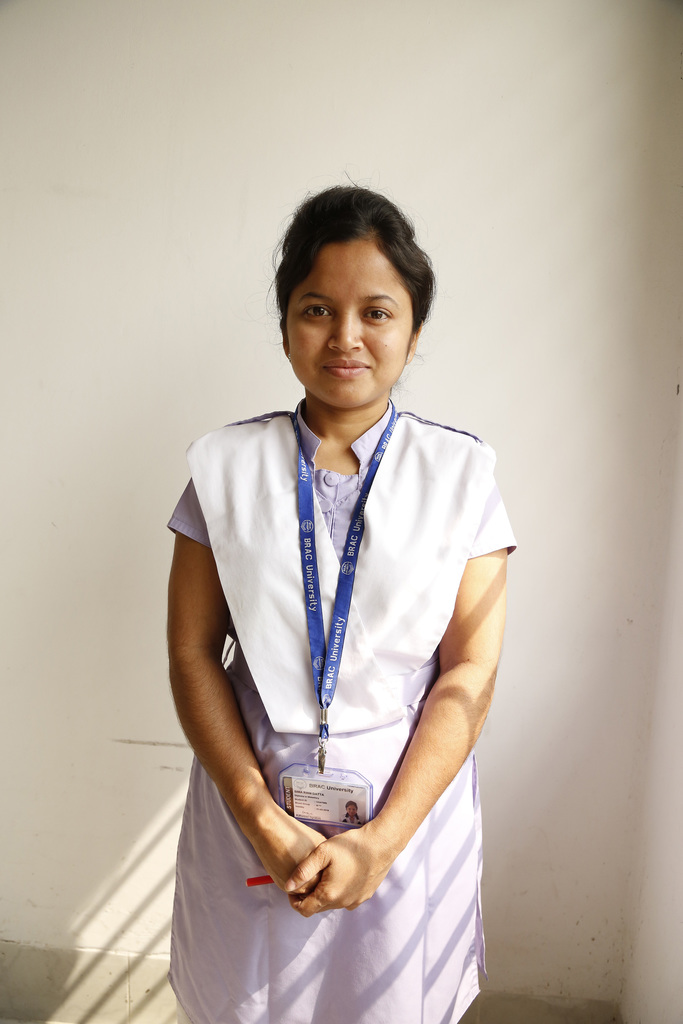Person: (162, 166, 521, 1024)
